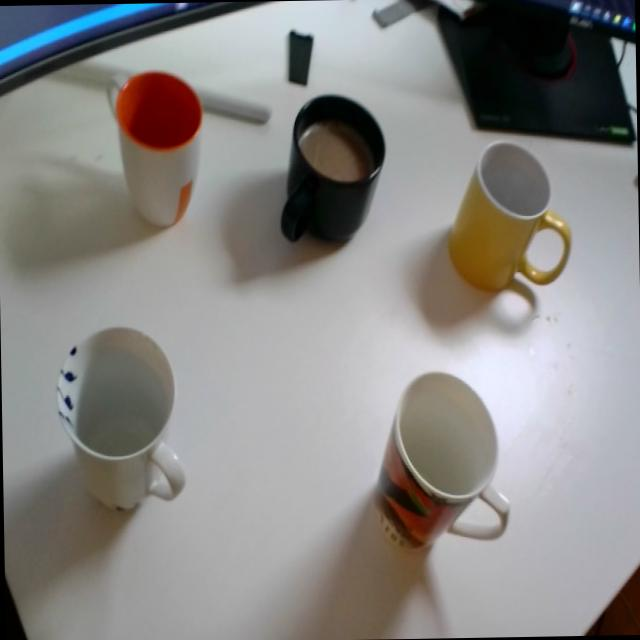Cocio Cup: (444, 140, 568, 292)
Cup: (270, 92, 389, 248)
Halloween cup: (361, 369, 510, 560)
Hand painted cup: (50, 328, 184, 515)
White Cup: (106, 70, 203, 230)
